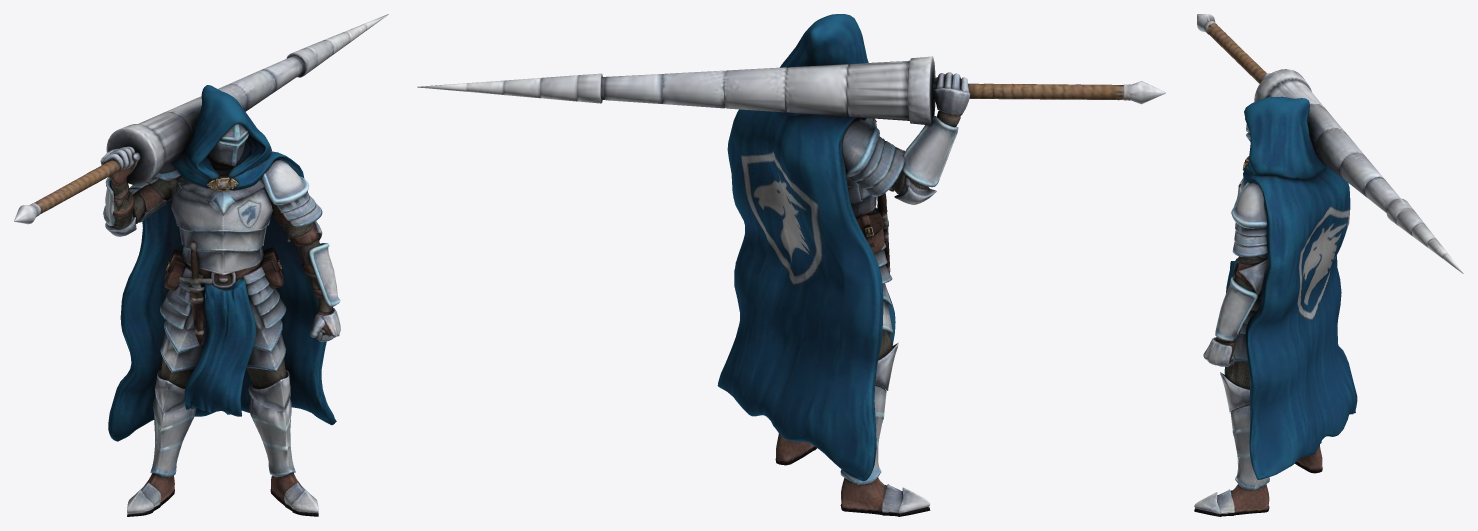
File: MZ4250 - Human Male Paladin_Bahamut.glb
3 renders of one model, left to right at view 1: azimuth 30°, elevation 25°; view 2: azimuth 150°, elevation 25°; view 3: azimuth 270°, elevation 25°, orthographic. The views are drawn at different scales.
Visible parts, largest first — view 1: Body.004; view 2: Body.004; view 3: Body.004.
Part boxes in pixels (bbox=[...]): Body.004: bbox=[14, 14, 388, 516]; Body.004: bbox=[417, 14, 1165, 516]; Body.004: bbox=[1194, 14, 1463, 516].
Size of the model in its own units: 121 by 91.35 by 57.37.
Materials: 4 (4 with a texture image).
